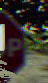Stop: (0, 6, 40, 82)
